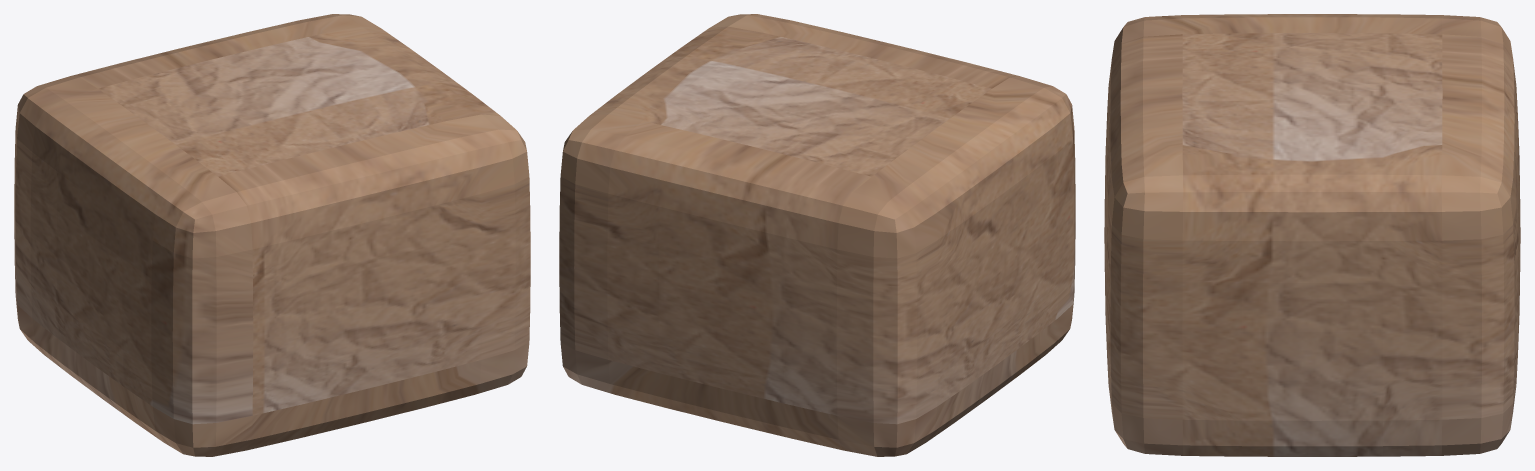
3 renders of one model, left to right at view 1: azimuth 30°, elevation 25°; view 2: azimuth 150°, elevation 25°; view 3: azimuth 270°, elevation 25°, orthographic. The views are drawn at different scales.
Visible parts, largest first — view 1: Cube; view 2: Cube; view 3: Cube.
Boxes of the visible parts, x1,y1,x2,y2 form: Cube: (14,14,530,456); Cube: (559,14,1075,456); Cube: (1104,14,1520,456).
Size of the model in its own units: 158 by 110 by 144.
1 material, 1 textured.
